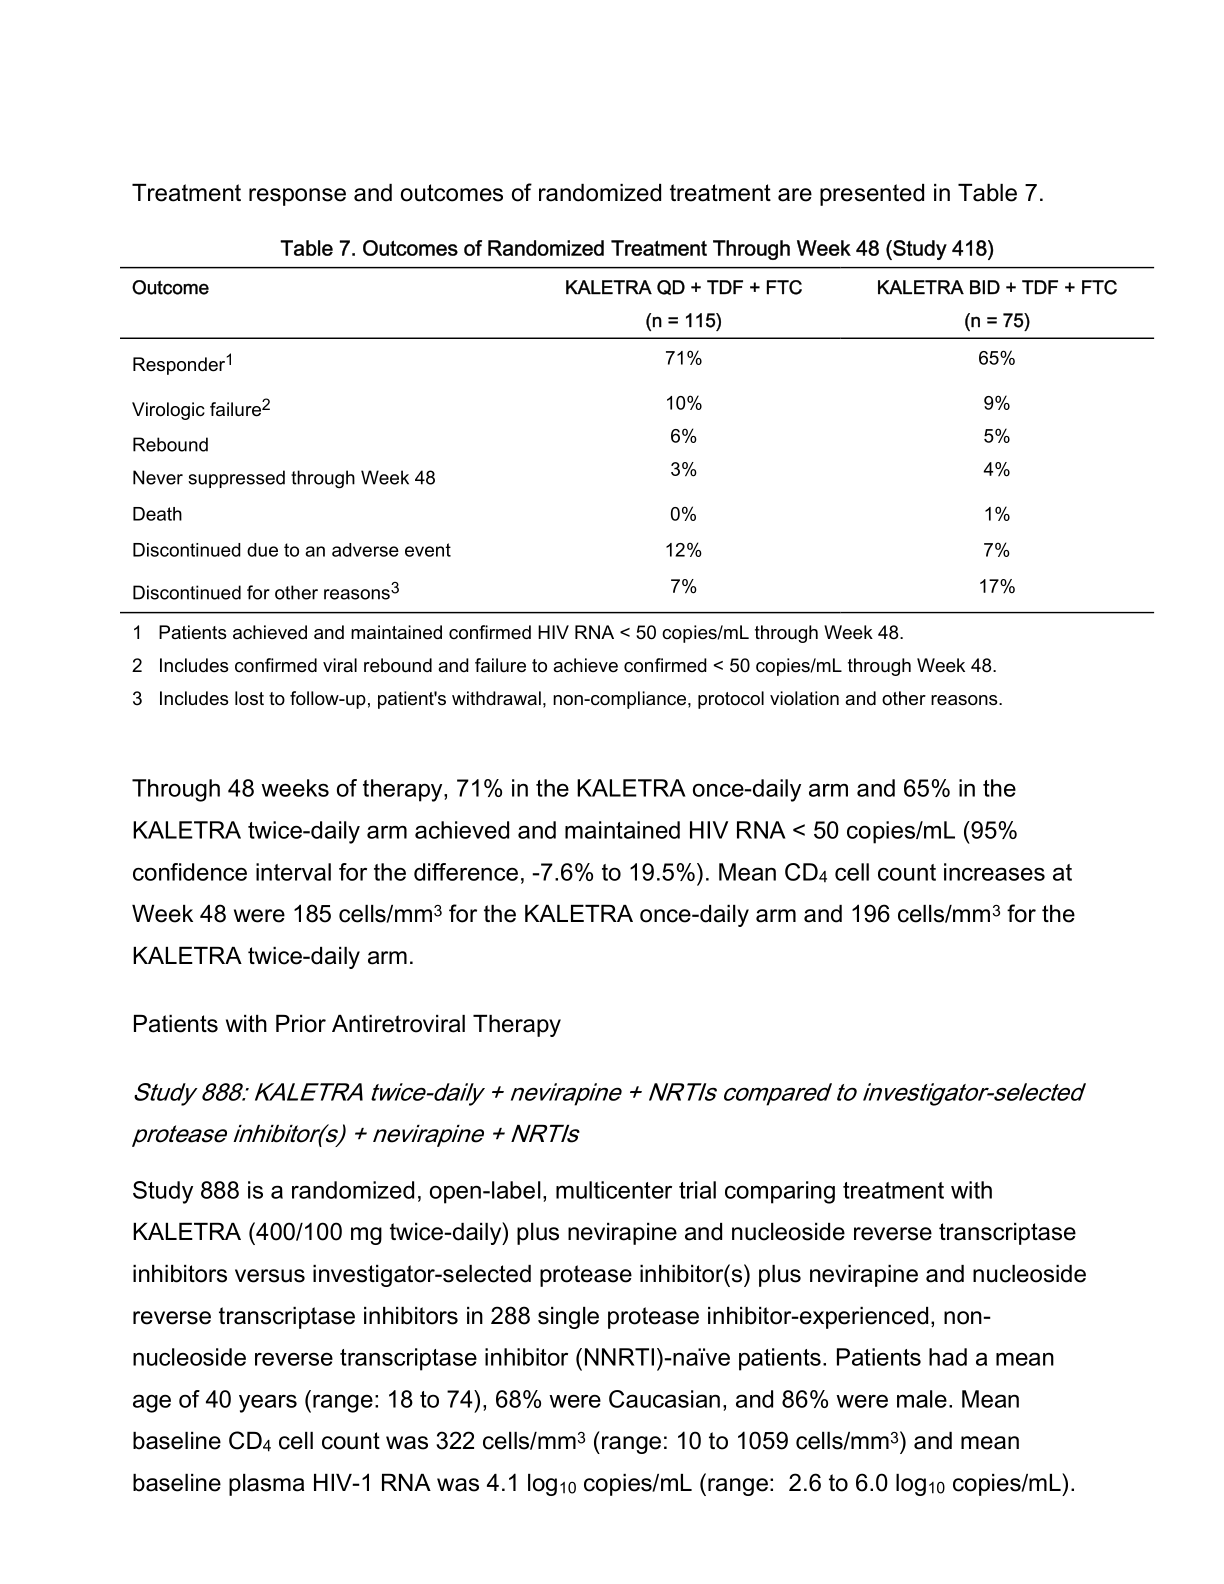partial_lined: (114, 264, 1155, 618)
